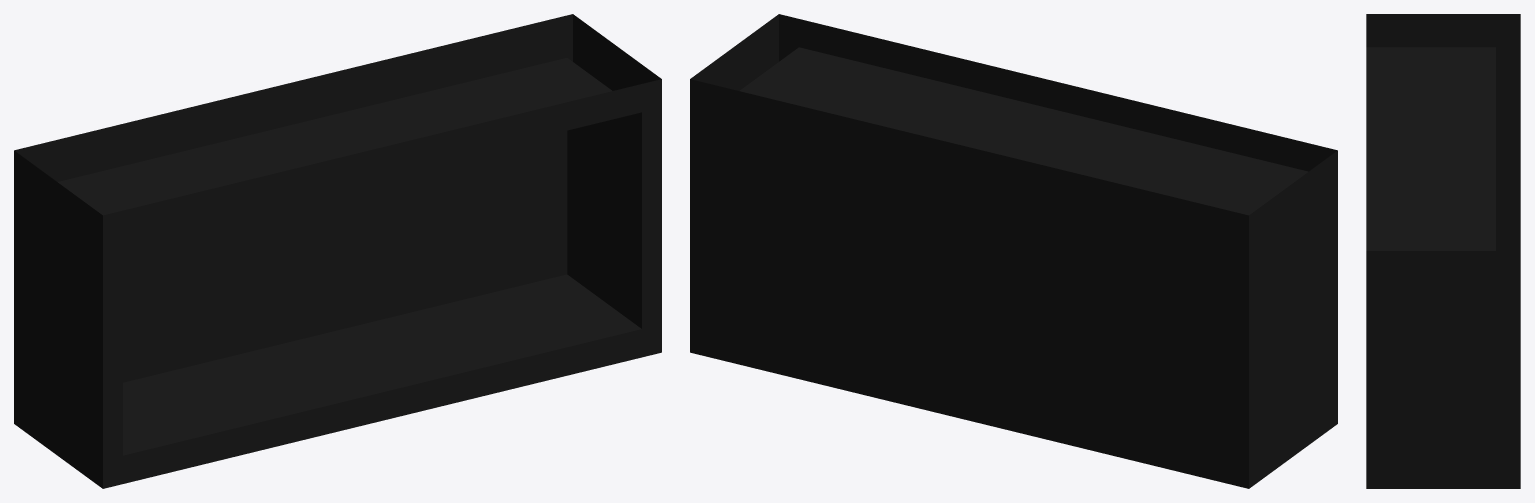
Rendered from Itr_Wardrobe4_Body2_03.FBX.
3 renders of one model, left to right at view 1: azimuth 30°, elevation 25°; view 2: azimuth 150°, elevation 25°; view 3: azimuth 270°, elevation 25°, orthographic. The views are drawn at different scales.
Visible parts, largest first — view 1: Itr_Wardrobe4_Body2_03; view 2: Itr_Wardrobe4_Body2_03; view 3: Itr_Wardrobe4_Body2_03.
Boxes of the visible parts, left/top/right/bottom form: Itr_Wardrobe4_Body2_03: left=14, top=14, right=661, bottom=488; Itr_Wardrobe4_Body2_03: left=690, top=14, right=1337, bottom=488; Itr_Wardrobe4_Body2_03: left=1366, top=14, right=1520, bottom=488.
Bounding box in the file's own units: 59.06 × 27.62 × 16.27.
